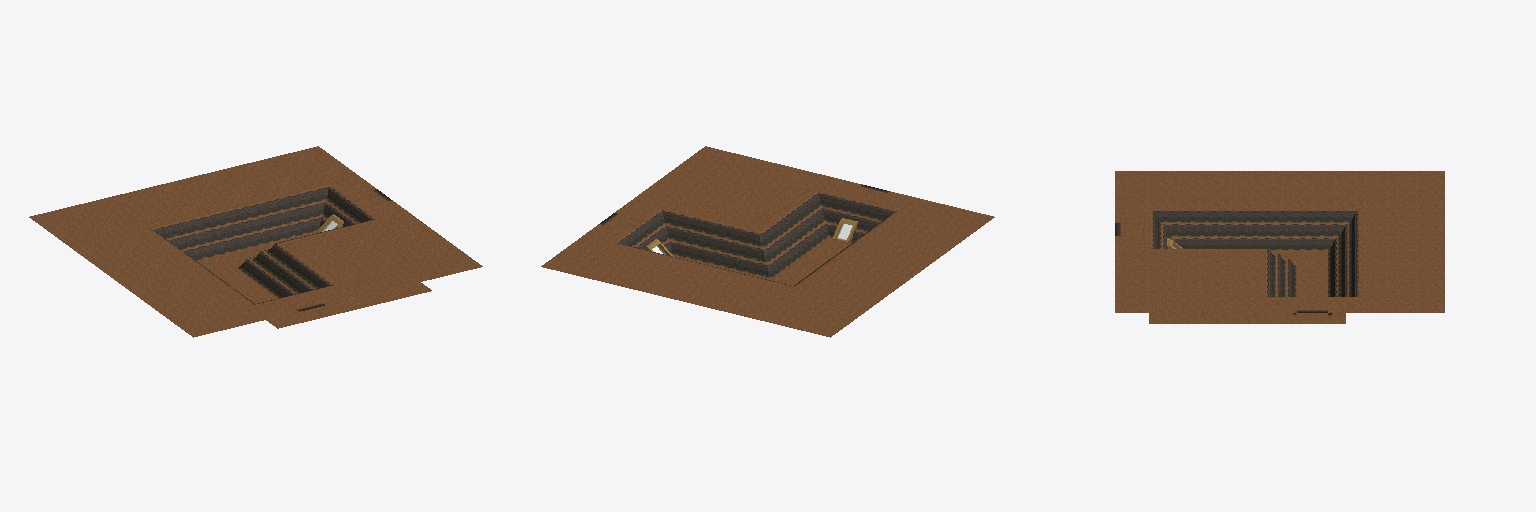
The picture shows the model from 3 angles: view 1: azimuth 30°, elevation 25°; view 2: azimuth 150°, elevation 25°; view 3: azimuth 270°, elevation 25°; orthographic projection.
Visible parts, largest first — view 1: polygon0, polygon1, polygon2, polygon6; view 2: polygon0, polygon1, polygon2, polygon6; view 3: polygon0, polygon1, polygon2, polygon6.
Boxes of the visible parts, x1=… form: polygon0: x1=29, y1=146, x2=482, y2=337; polygon1: x1=156, y1=189, x2=370, y2=312; polygon2: x1=151, y1=185, x2=375, y2=304; polygon6: x1=281, y1=189, x2=391, y2=311; polygon0: x1=541, y1=146, x2=994, y2=337; polygon1: x1=620, y1=195, x2=891, y2=277; polygon2: x1=616, y1=191, x2=897, y2=286; polygon6: x1=600, y1=185, x2=888, y2=231; polygon0: x1=1115, y1=171, x2=1444, y2=323; polygon1: x1=1155, y1=212, x2=1354, y2=316; polygon2: x1=1151, y1=210, x2=1358, y2=296; polygon6: x1=1115, y1=223, x2=1327, y2=312.
Bounding box in the file's own units: 8.06 × 0.75 × 7.94.
7 materials, 7 textured.